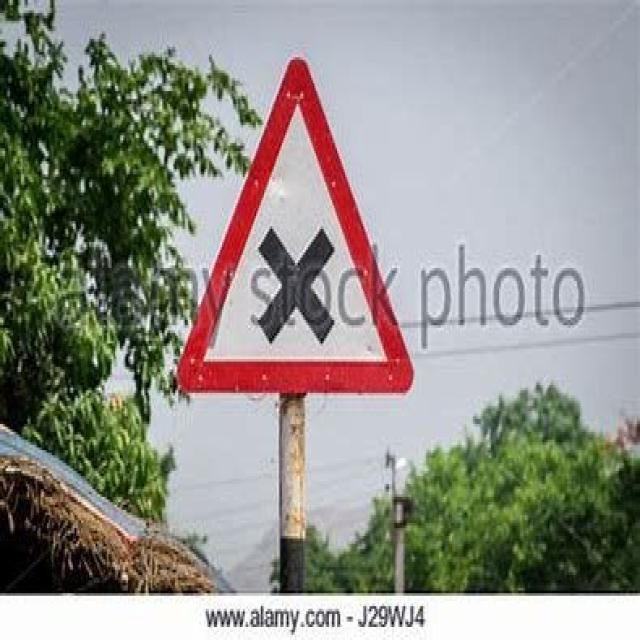CROSS_ROAD: (177, 59, 416, 416)
